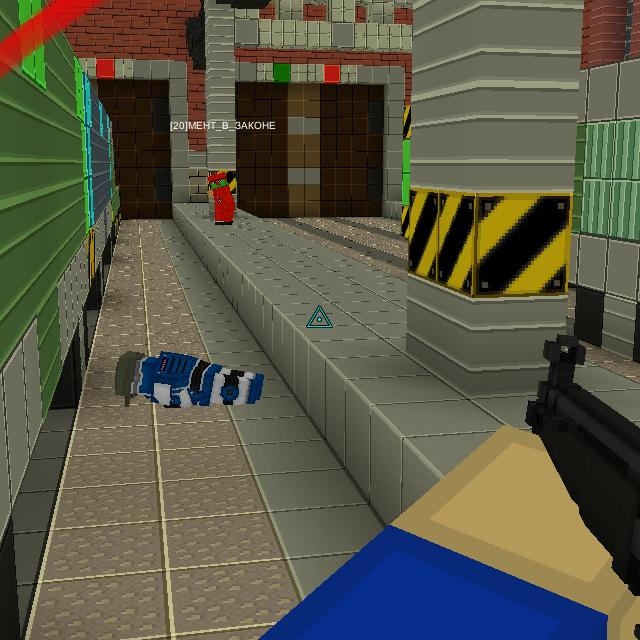enemy: (206, 168, 235, 225)
